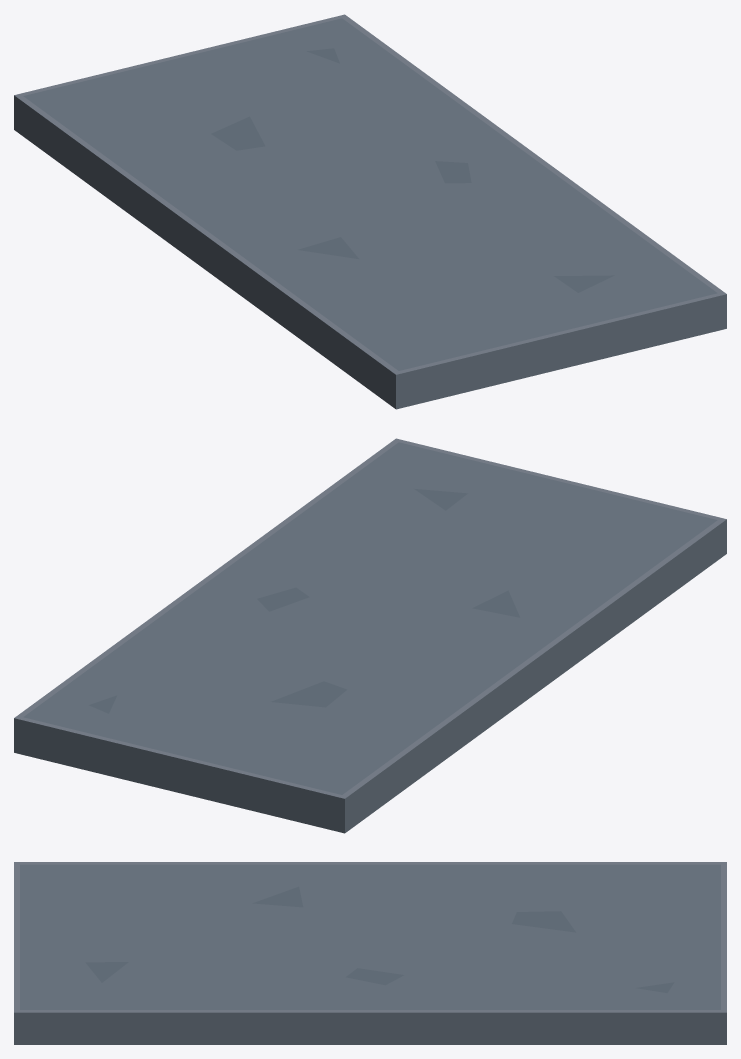
Rendered from ConcrateSlabs_D_3_3.obj.
3 renders of one model, top to bottom at view 1: azimuth 30°, elevation 25°; view 2: azimuth 150°, elevation 25°; view 3: azimuth 270°, elevation 25°, orthographic. The views are drawn at different scales.
Parts seen in each view (by area): view 1: ConcrateSlabs_D_3_3; view 2: ConcrateSlabs_D_3_3; view 3: ConcrateSlabs_D_3_3.
Boxes of the visible parts, box(x1,y1,x2,y2) form: ConcrateSlabs_D_3_3: box(14, 14, 726, 409); ConcrateSlabs_D_3_3: box(14, 438, 726, 833); ConcrateSlabs_D_3_3: box(14, 862, 726, 1044).
Bounding box in the file's own units: 4 × 0.4 × 8.
